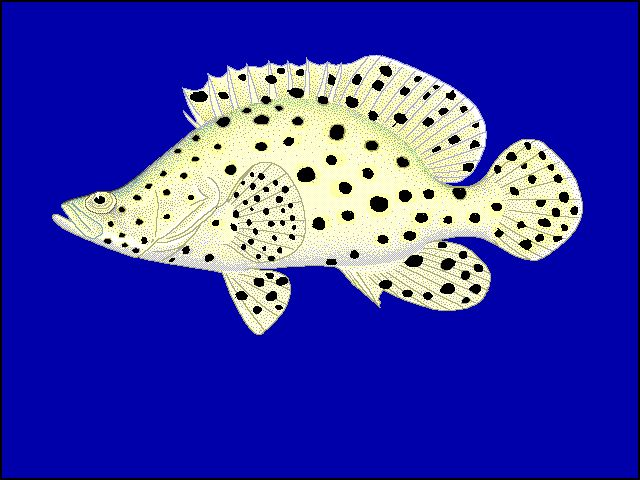fish: (50, 55, 584, 337)
